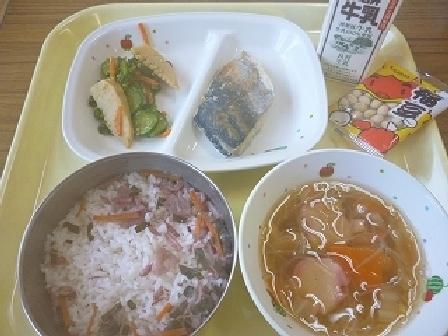Fish: (190, 52, 286, 164)
Milk: (311, 0, 412, 80)
Rice: (20, 153, 236, 335)
salad with sauce: (78, 37, 185, 143)
vegetable soup: (242, 160, 442, 335)
